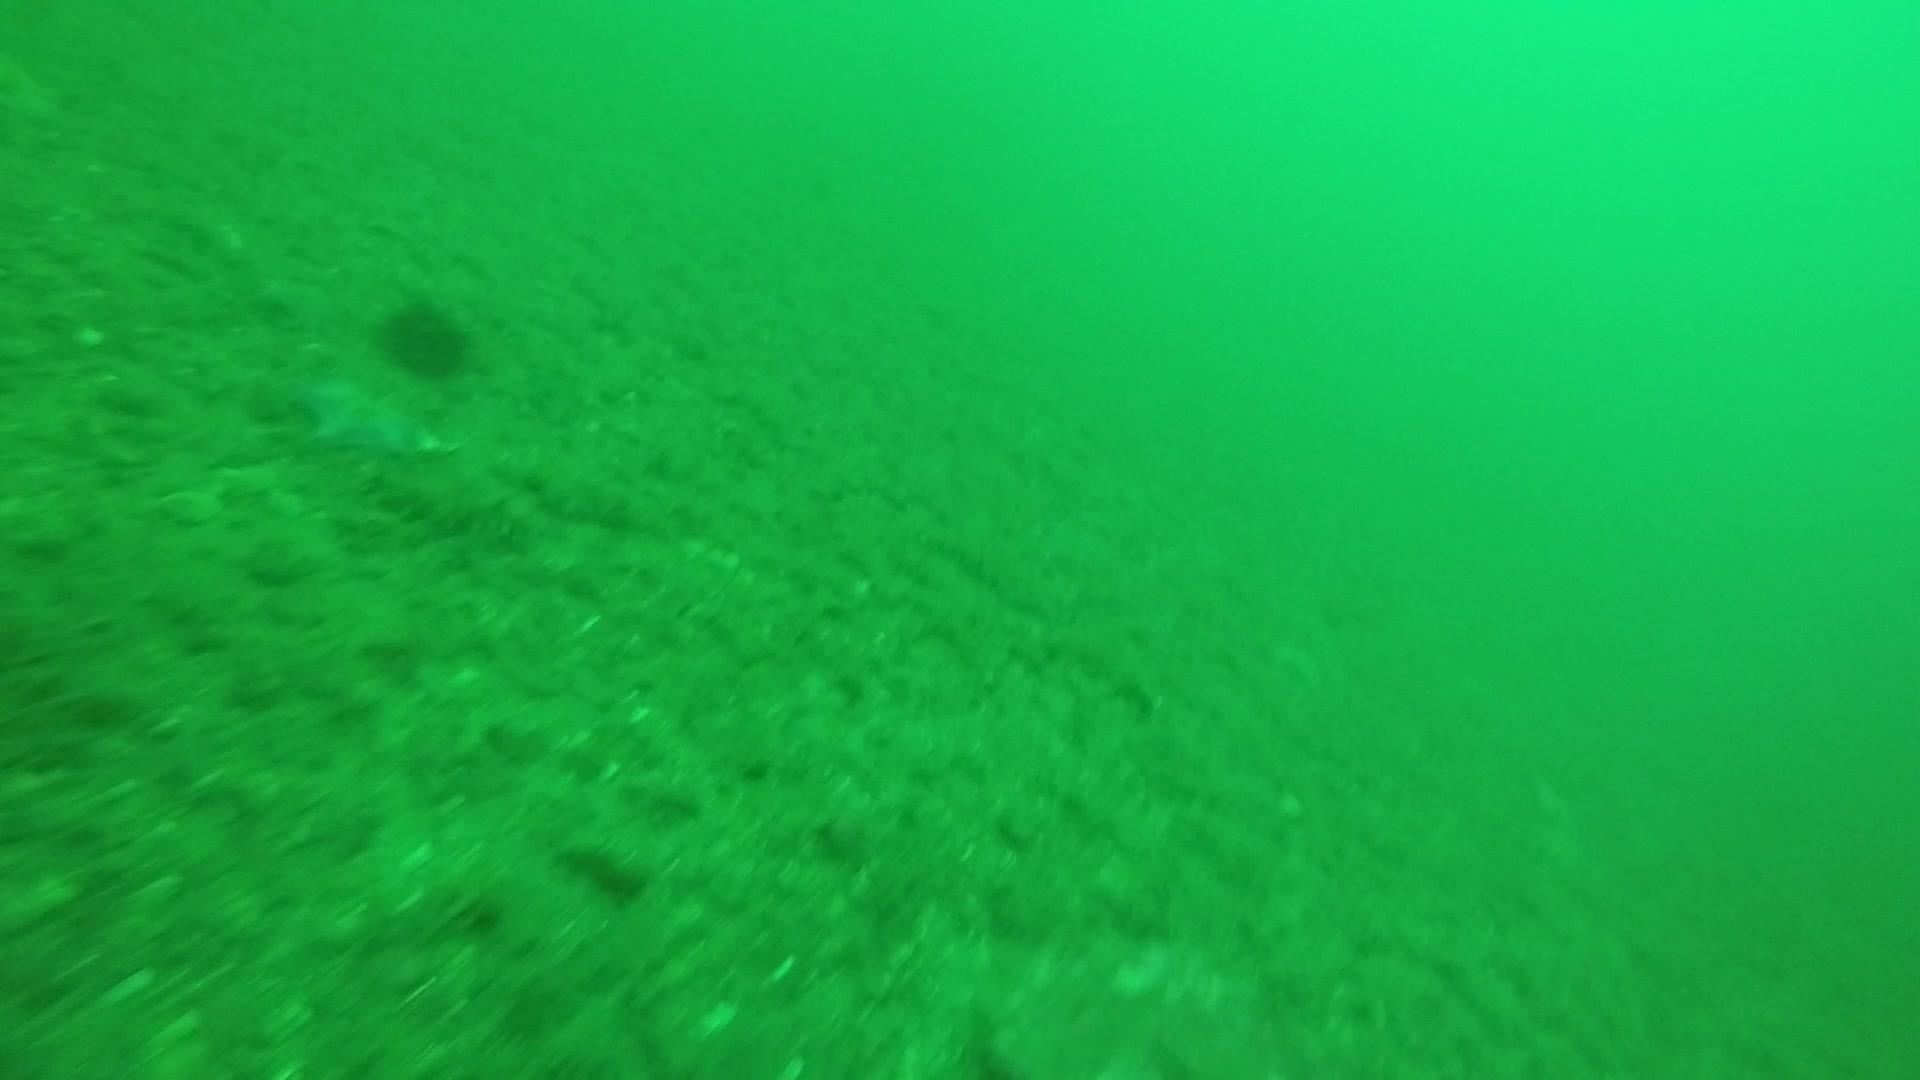echinus: (375, 290, 476, 384)
starfish: (290, 369, 439, 463)
